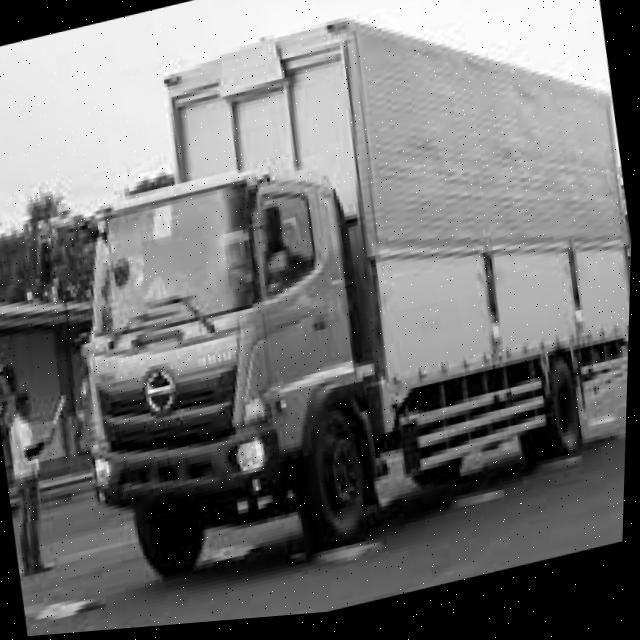truck: (10, 107, 435, 629)
